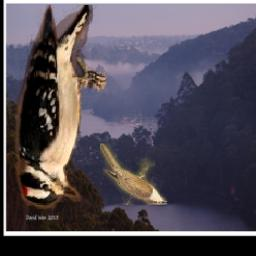Cuckoo: (101, 143, 168, 205)
Woodpecker: (17, 5, 108, 211)
